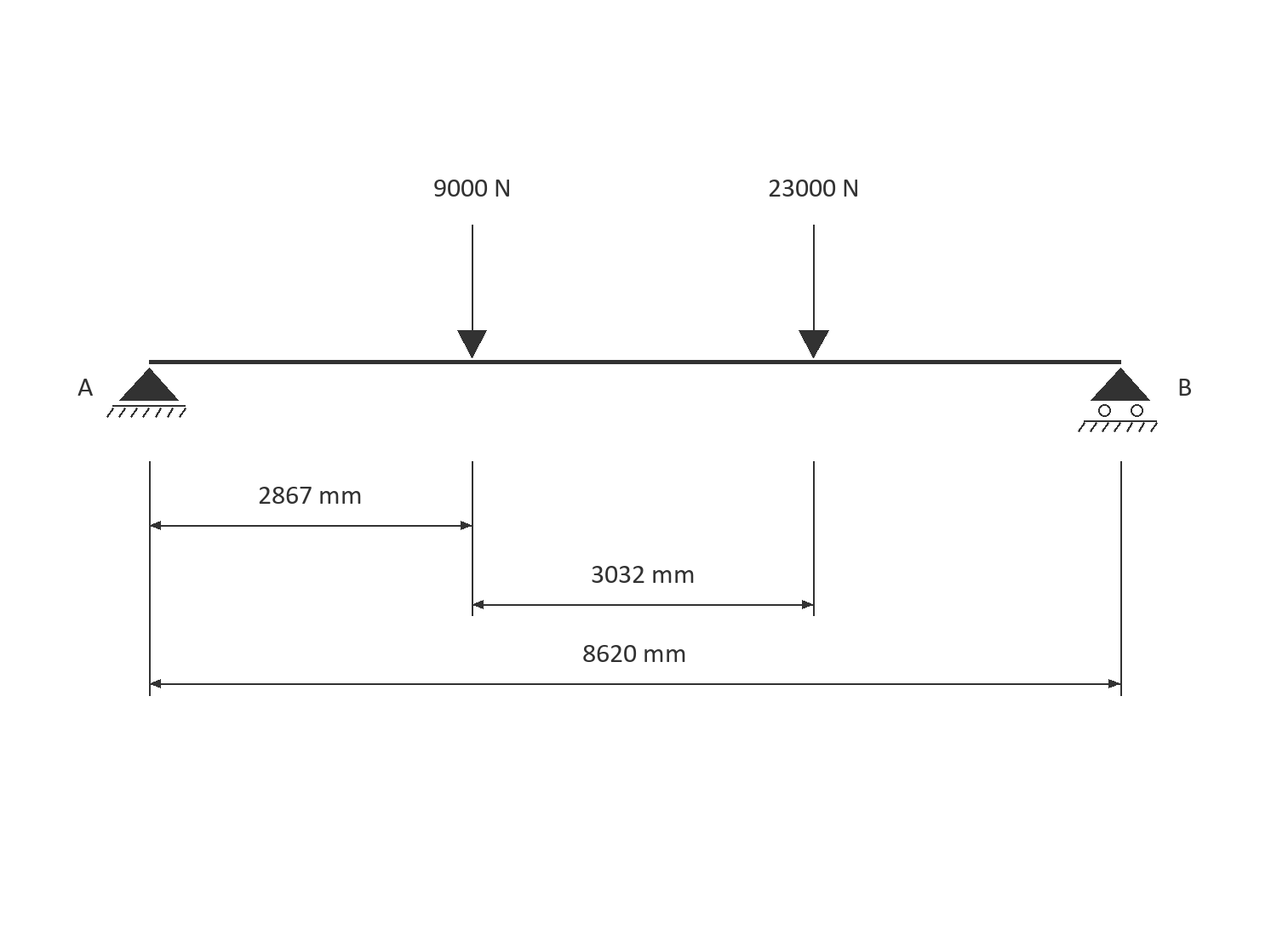pin_support: (106, 368, 186, 418)
point_load: (457, 225, 487, 358), (799, 225, 829, 358)
roller_support: (1078, 368, 1158, 432)
